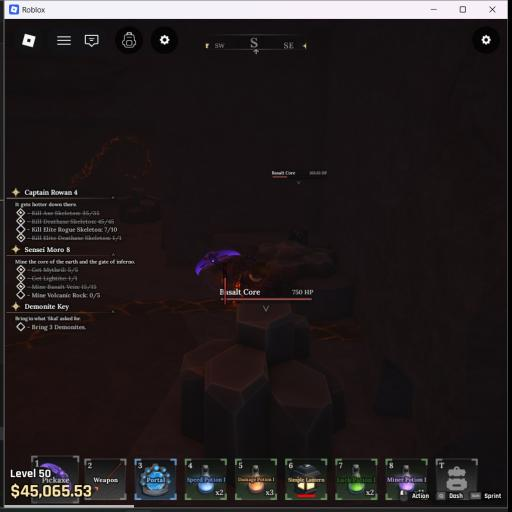player: (198, 255, 285, 297)
rock: (180, 303, 344, 459), (257, 241, 354, 321), (119, 189, 161, 223)
